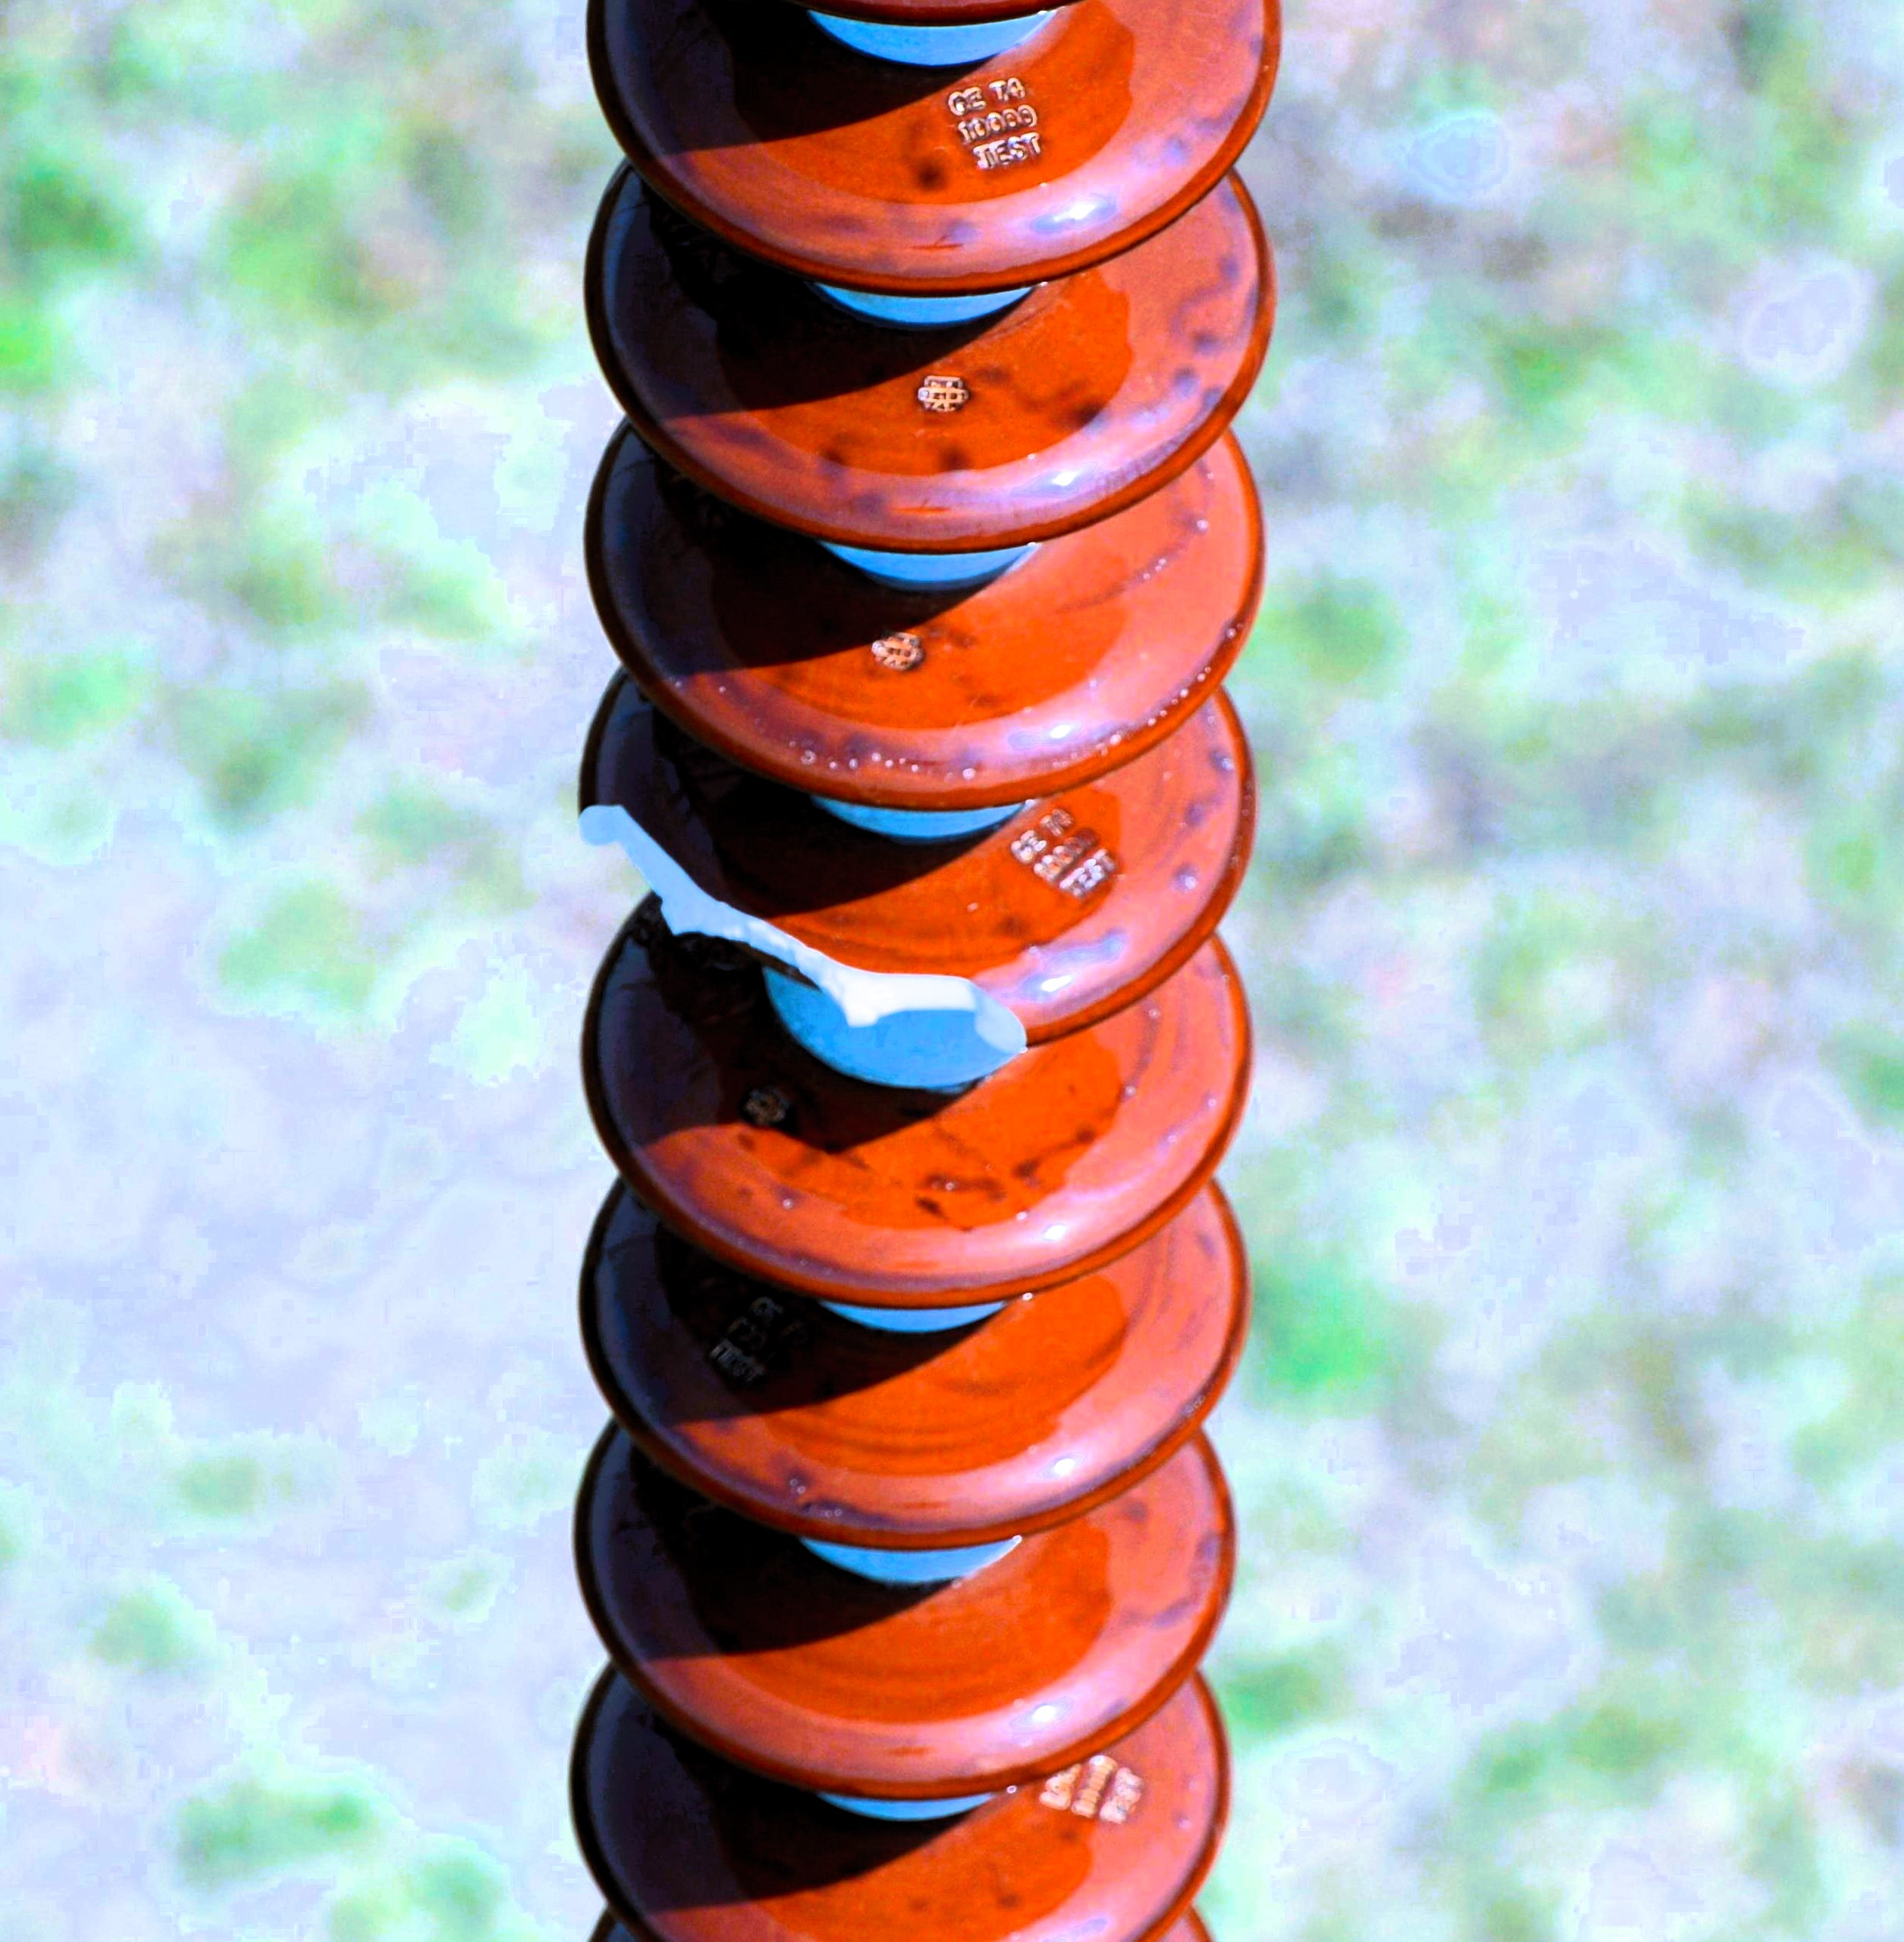insulator breakage: (551, 636, 1282, 1069)
